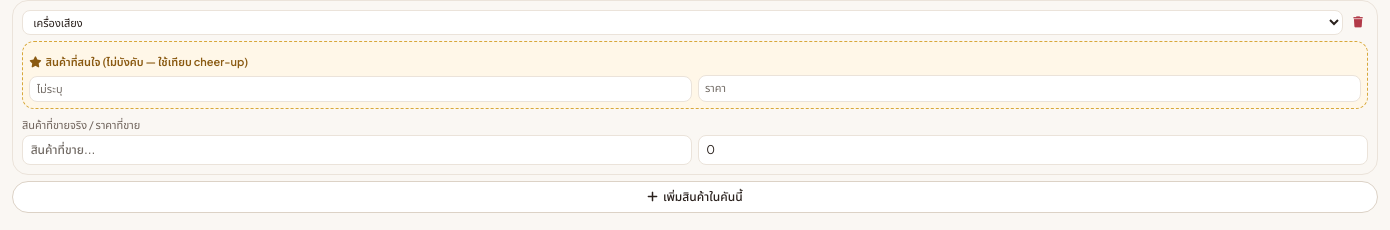
it: ItemsSection product options › lists the branch's own stock with its remaining count
Step 1. Click the dropdown named "สินค้าที่ขายจริง" → (357, 150), box 22,135 -> 692,165
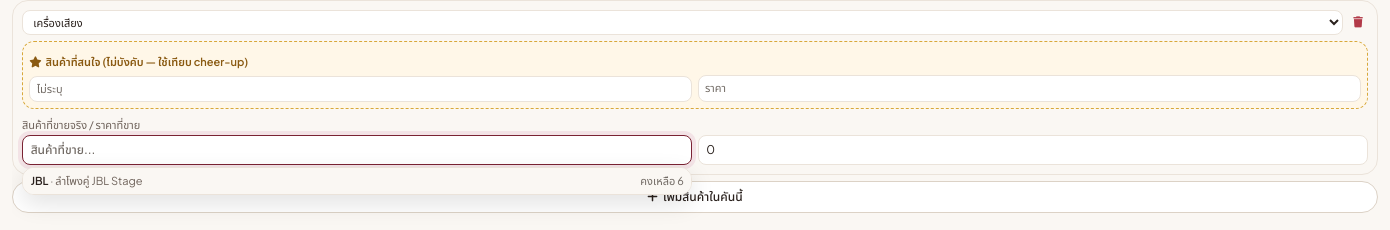
Expected: the option "JBL · ลำโพงคู่ JBL Stage คงเหลือ 6" is shown, 23,168 -> 692,194
